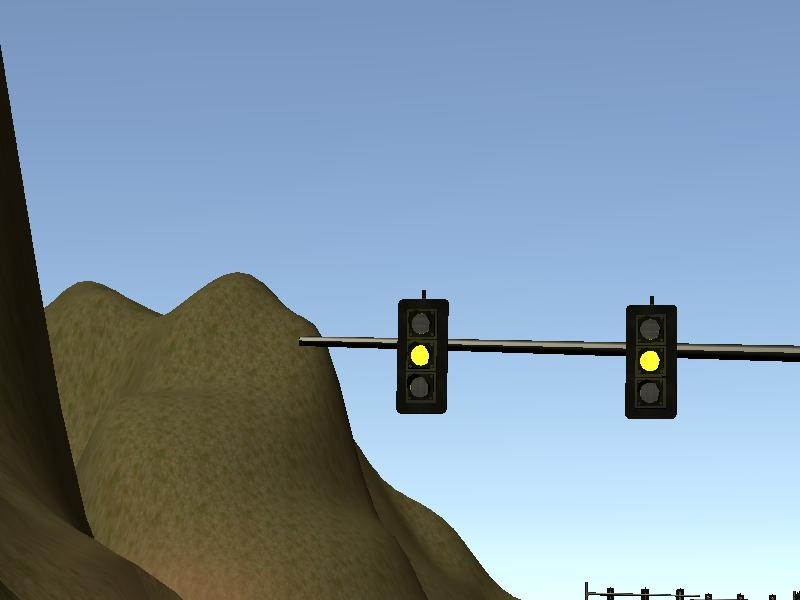YELLOW: (391, 299, 450, 417), (620, 301, 679, 419)
